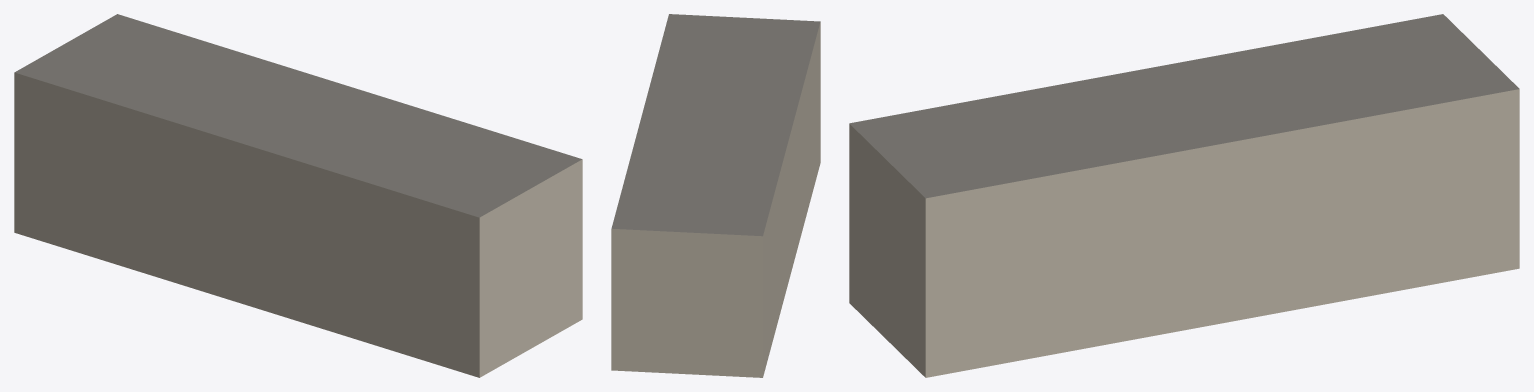
The picture shows the model from 3 angles, left to right: view 1: azimuth 30°, elevation 25°; view 2: azimuth 150°, elevation 25°; view 3: azimuth 270°, elevation 25°; orthographic projection. The views are drawn at different scales.
Parts seen in each view (by area): view 1: HP-w369342482; view 2: HP-w369342482; view 3: HP-w369342482.
Boxes of the visible parts, x1,y1,x2,y2 form: HP-w369342482: [14, 14, 582, 377]; HP-w369342482: [611, 14, 820, 377]; HP-w369342482: [849, 14, 1519, 377].
Bounding box in the file's own units: 39.63 × 18 × 60.91.
